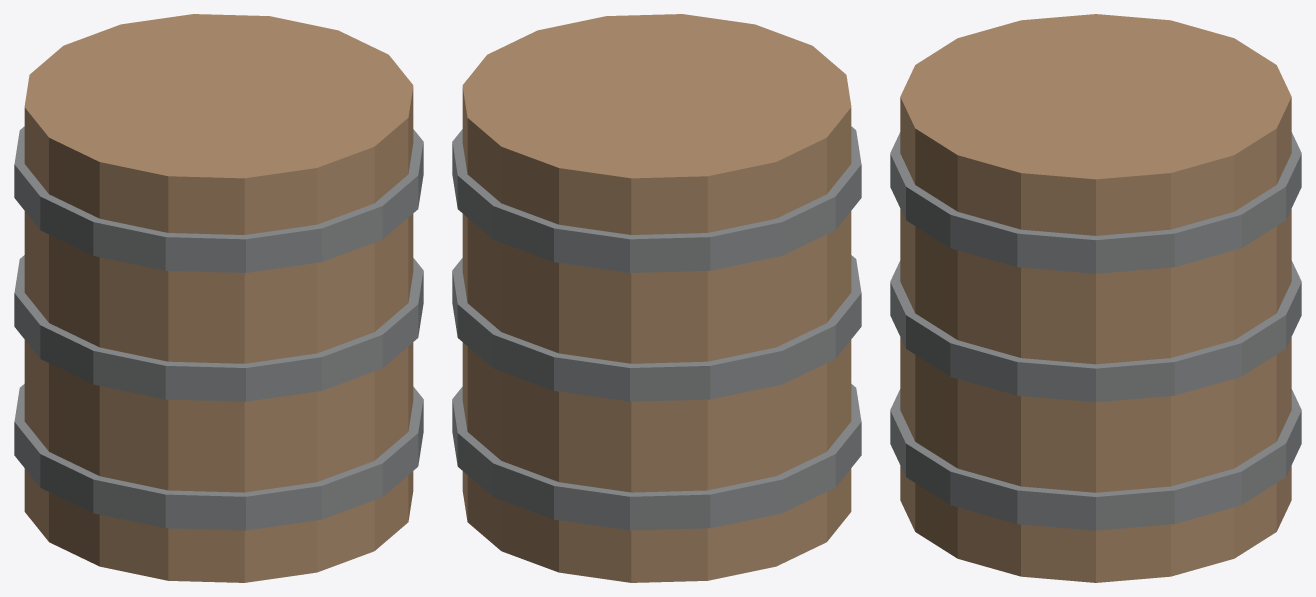
The model's file is barrel.glb.
3 renders of one model, left to right at view 1: azimuth 30°, elevation 25°; view 2: azimuth 150°, elevation 25°; view 3: azimuth 270°, elevation 25°, orthographic.
Visible parts, largest first — view 1: barrel_0, barrel_1; view 2: barrel_0, barrel_1; view 3: barrel_0, barrel_1.
Part boxes in pixels (x1,y1,x2,y2): barrel_0: [24, 14, 413, 582]; barrel_1: [14, 126, 423, 530]; barrel_0: [462, 14, 851, 582]; barrel_1: [452, 126, 861, 530]; barrel_0: [900, 14, 1291, 582]; barrel_1: [890, 132, 1301, 530].
Bounding box in the file's own units: 0.61 × 0.66 × 0.61.
